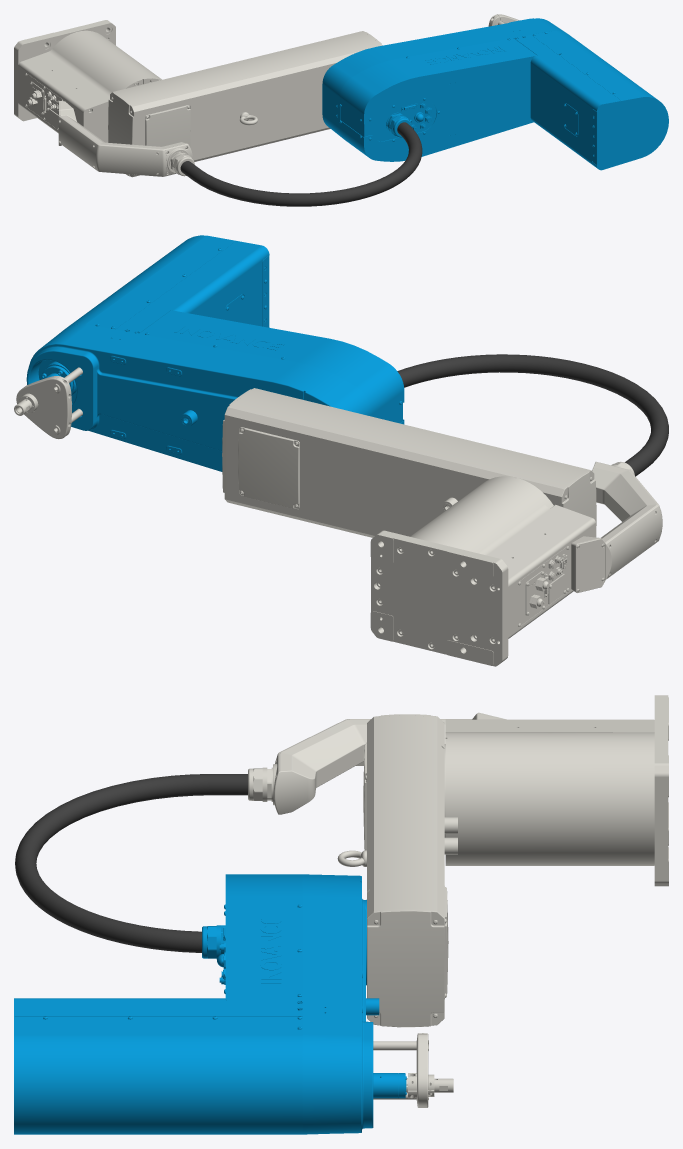
File: IR-S60-120Z40S-INT_3D.fbx
3 views of the same model, one above another, from view 1: azimuth 30°, elevation 25°; view 2: azimuth 150°, elevation 25°; view 3: azimuth 270°, elevation 25° (orthographic). The views are drawn at different scales.
Parts seen in each view (by area): view 1: Body1 (×4); view 2: Body1 (×5); view 3: Body1 (×6).
Boxes of the visible parts, left/top/right/bottom form: Body1 (×4): left=14, top=18, right=668, bottom=206; Body1 (×5): left=16, top=235, right=668, bottom=666; Body1 (×6): left=14, top=695, right=668, bottom=1134.
Bounding box in the file's own units: 1529 × 254 × 1159.
